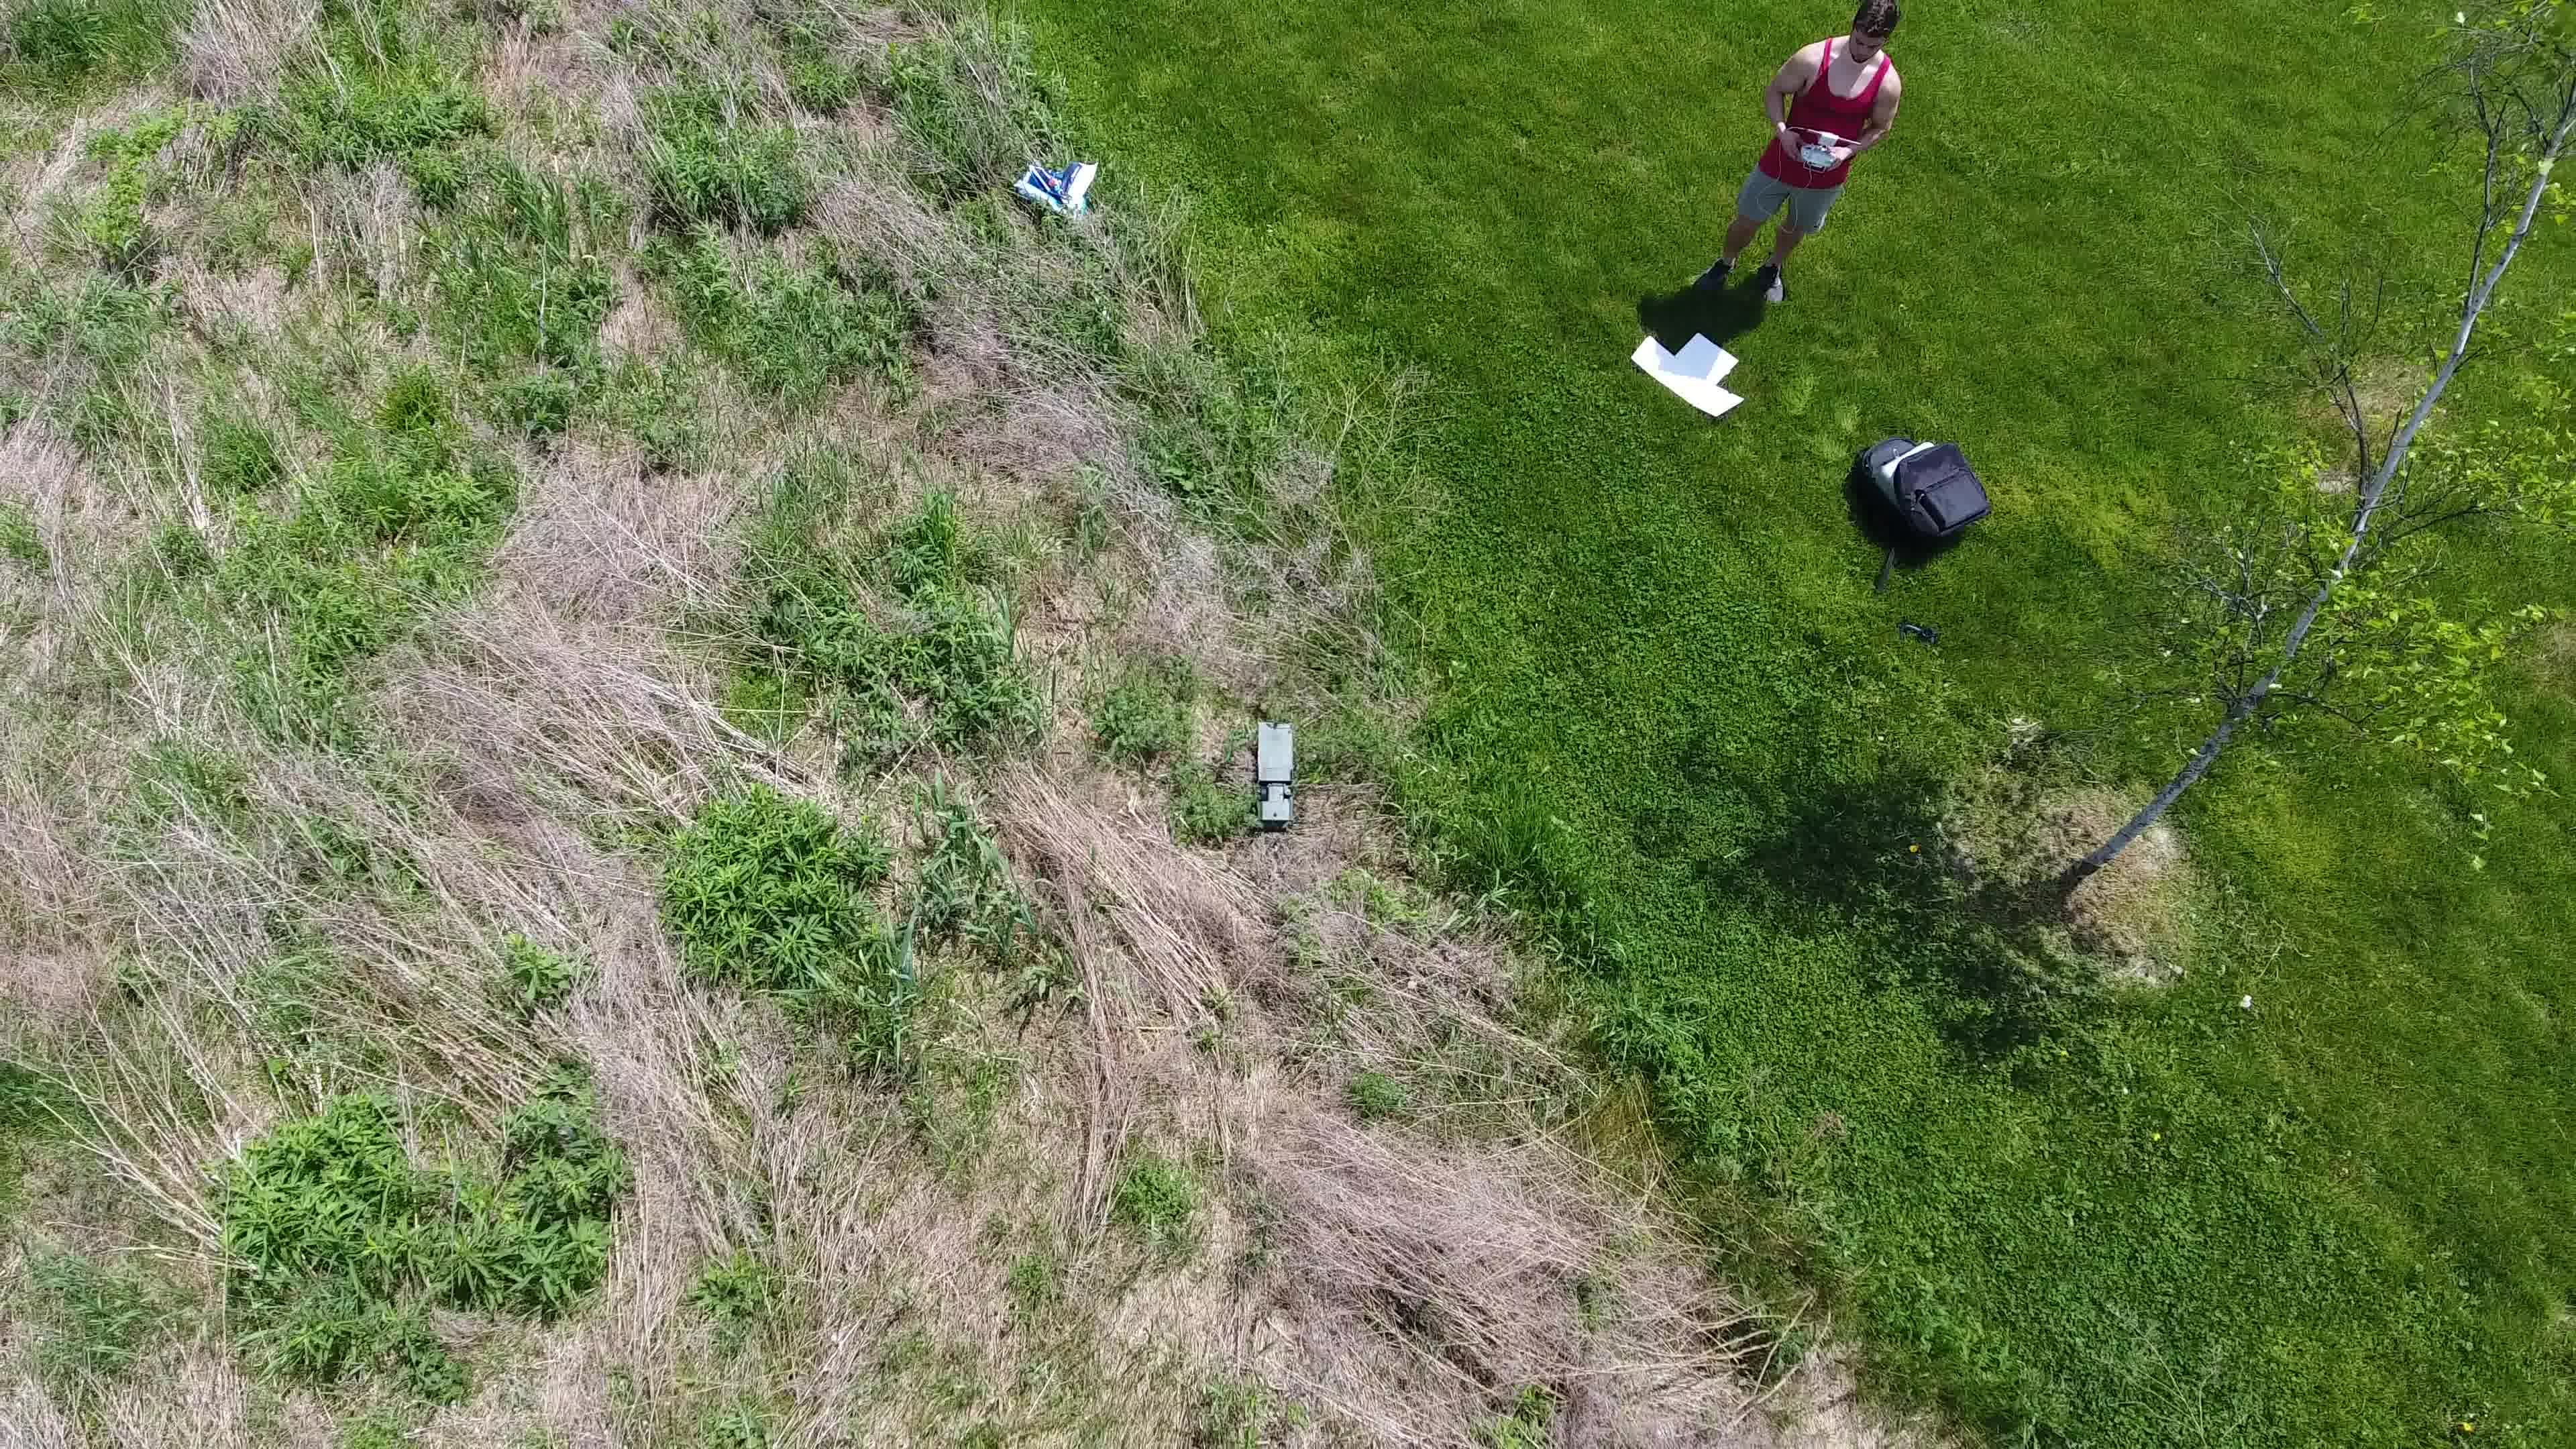transporter9: (1256, 717, 1297, 824)
